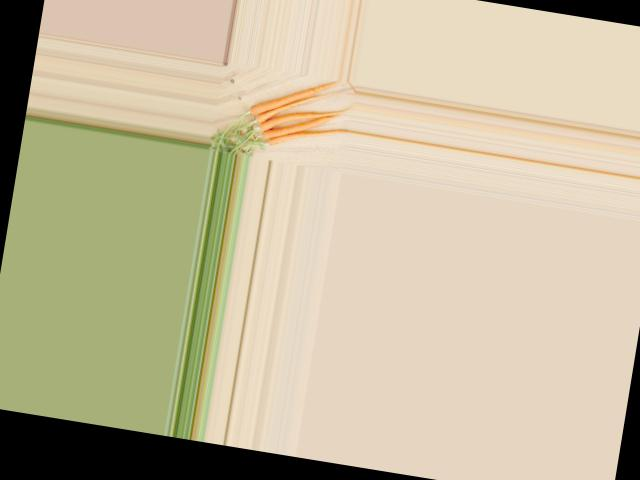carrot: (267, 117, 346, 158)
